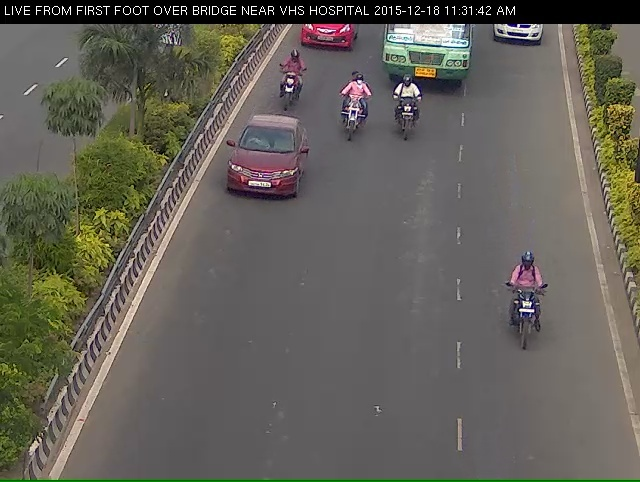Bus: (375, 19, 482, 93)
Car: (224, 125, 308, 222), (291, 22, 364, 58)
Person: (495, 259, 566, 384), (381, 84, 435, 150), (343, 72, 376, 157), (271, 54, 302, 119)
